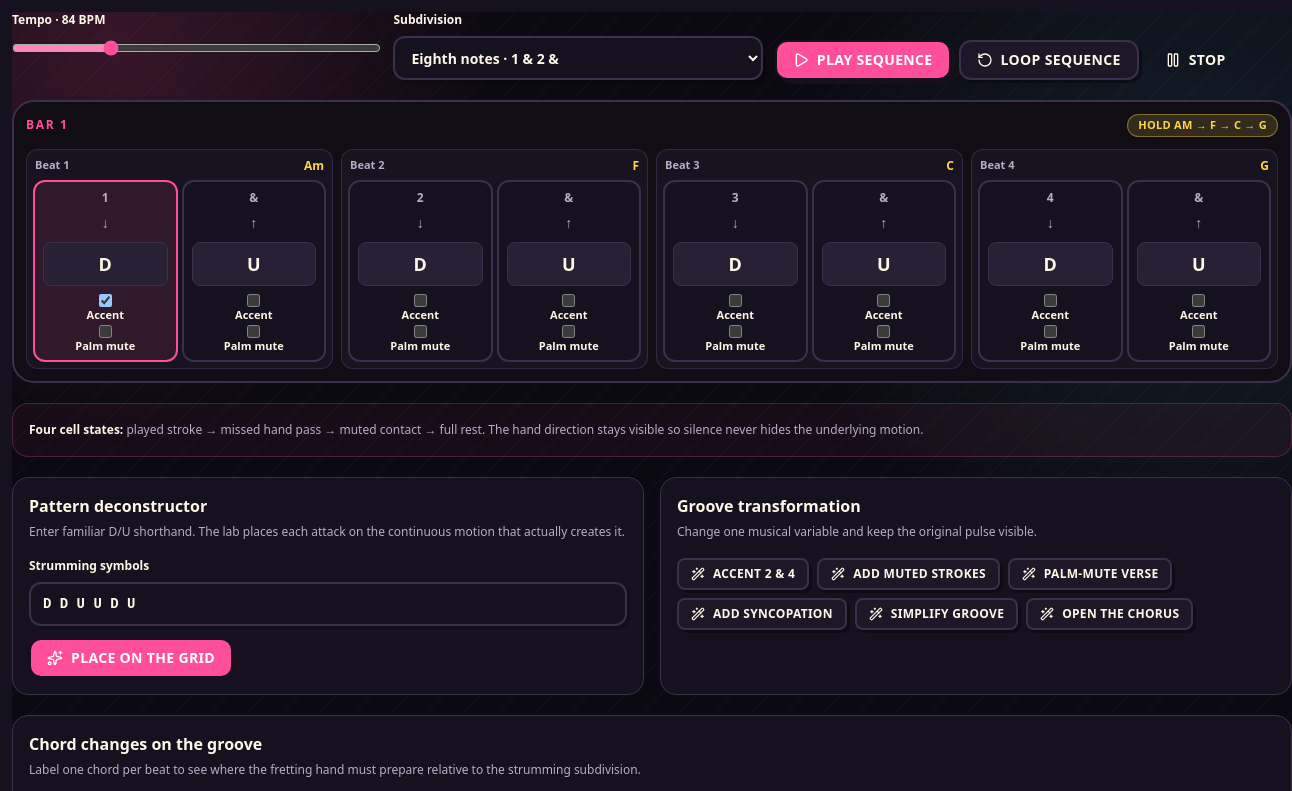
Scenario: RhythmLab › keeps all editable sixteenth-note beats in responsive groups
The image size is (1292, 791).
Select "Sixteenths · 1-e-&-a" in the dropdown labelled "Subdivision" at (578,58), box [393,36,763,80]
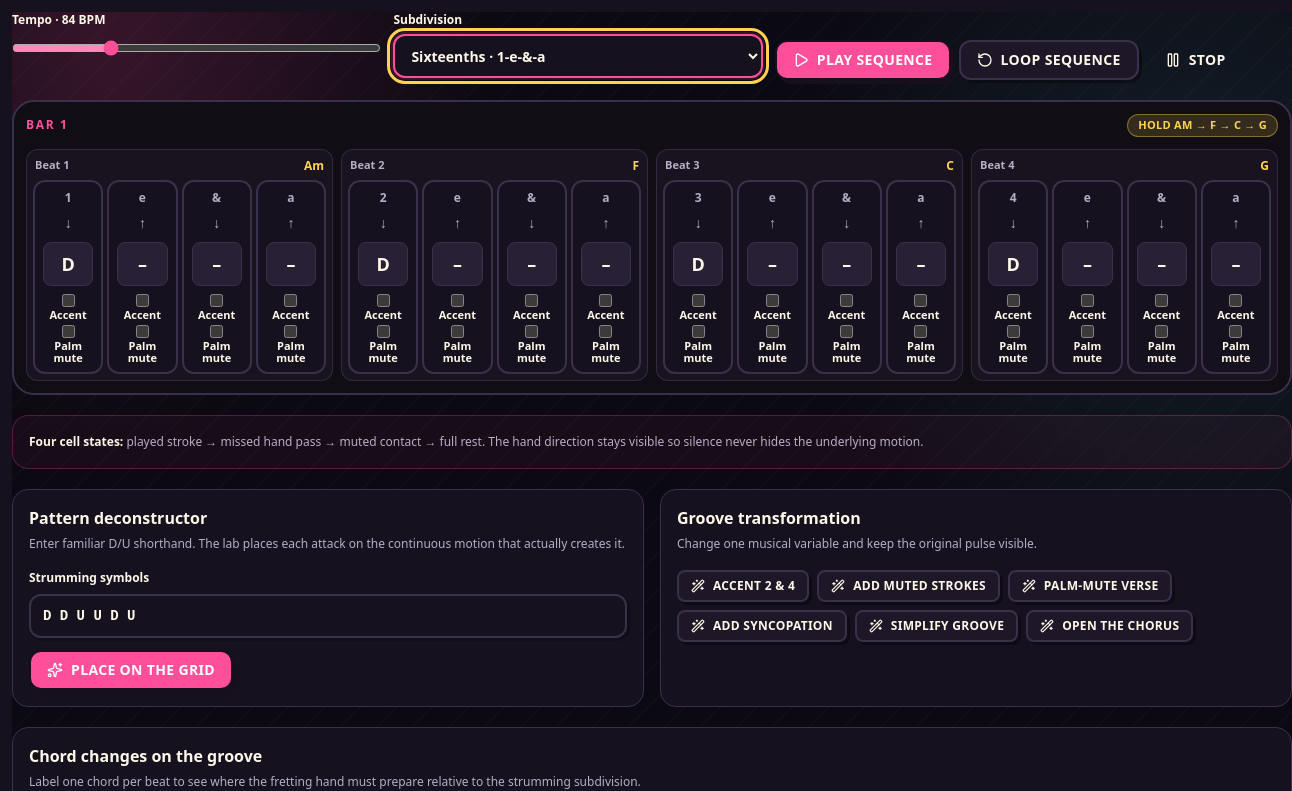
Expected: the number of buttons "D" is 16
